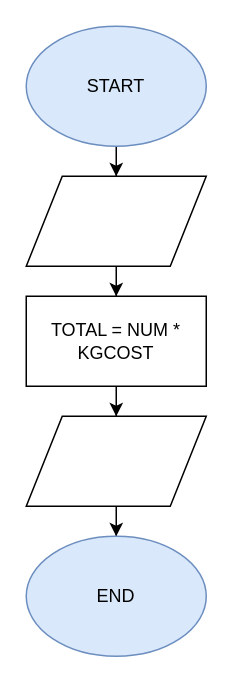
Image size: 233x683. Some labels were removed from this diagram. The box of each missing label's shape, as (x1, y1, x2, y2) in pixels:
READ NUM, KGCOST: (25, 175, 206, 266)
WRITE TOTAL: (25, 415, 206, 506)
